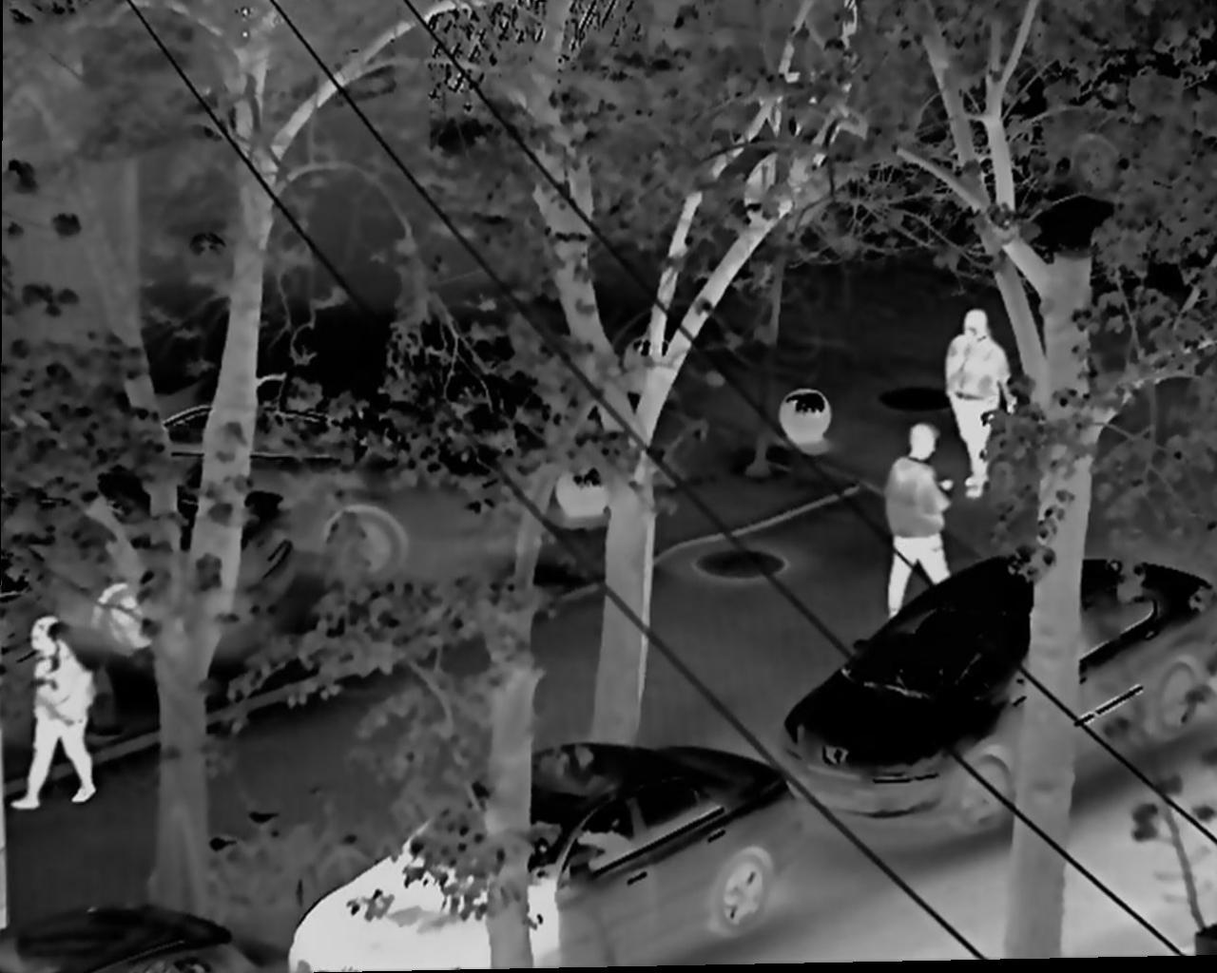person: (10, 614, 112, 819), (876, 415, 958, 617), (944, 297, 1024, 502)
